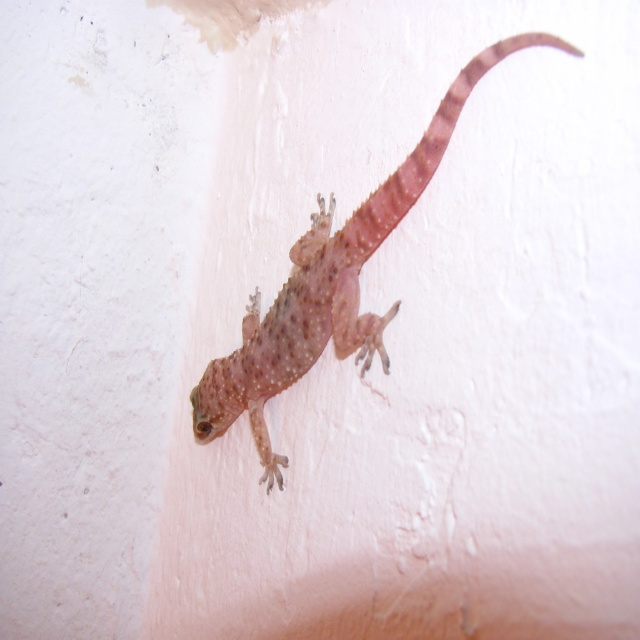Lizard: (188, 29, 585, 496)
